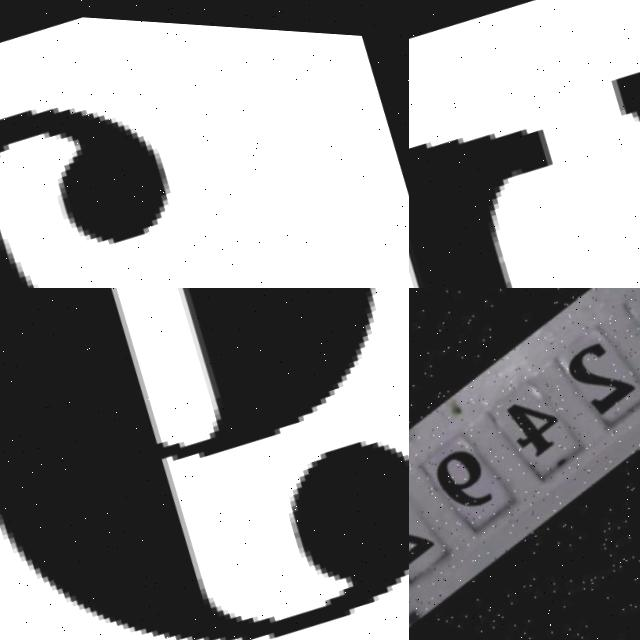2: (542, 299, 640, 434), (409, 457, 468, 591)
3: (0, 16, 409, 288)
4: (477, 346, 602, 485)
9: (0, 288, 409, 640), (410, 407, 534, 540)
U: (409, 0, 640, 288)
